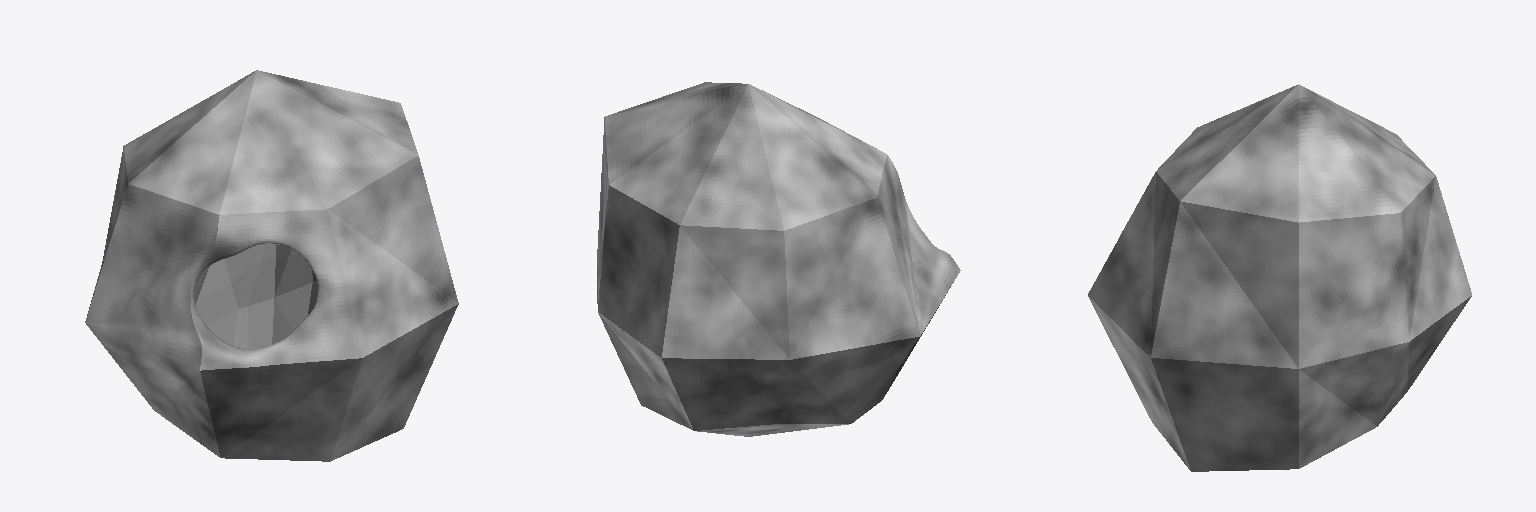
3 renders of one model, left to right at view 1: azimuth 30°, elevation 25°; view 2: azimuth 150°, elevation 25°; view 3: azimuth 270°, elevation 25°, orthographic.
Visible parts, largest first — view 1: asteroid2_asteroid.001; view 2: asteroid2_asteroid.001; view 3: asteroid2_asteroid.001.
Part boxes in pixels (left/top/right/bottom): asteroid2_asteroid.001: left=85, top=70, right=458, bottom=461; asteroid2_asteroid.001: left=597, top=82, right=960, bottom=436; asteroid2_asteroid.001: left=1088, top=84, right=1471, bottom=471.
Size of the model in its own units: 1.96 by 2.04 by 2.02.
1 materials, 1 textured.